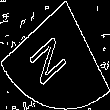N_NE: (31, 24, 79, 86)
